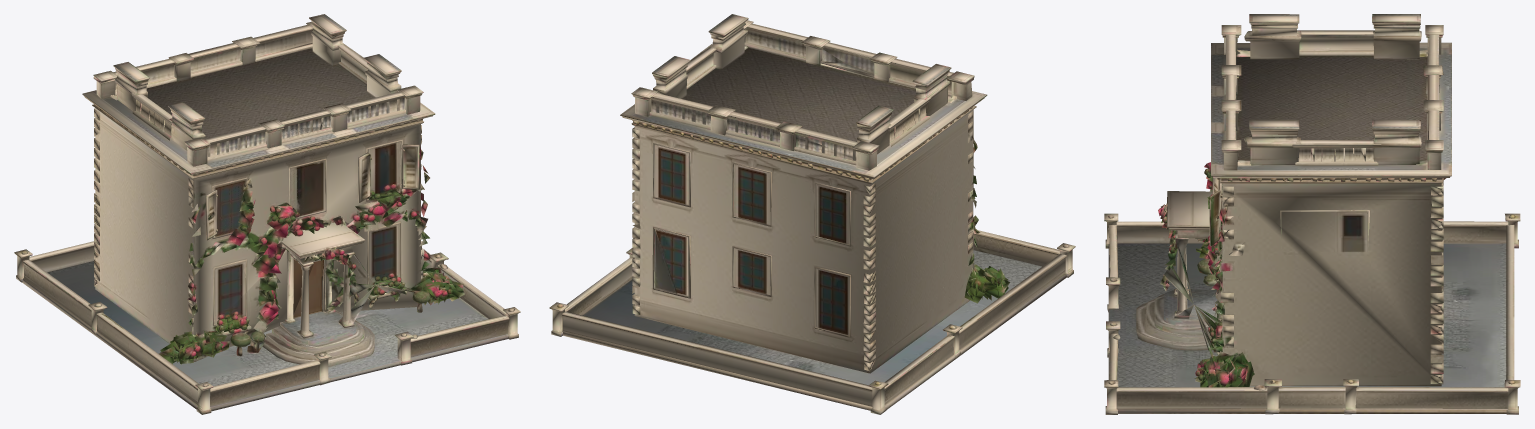
The picture shows the model from 3 angles, left to right: view 1: azimuth 30°, elevation 25°; view 2: azimuth 150°, elevation 25°; view 3: azimuth 270°, elevation 25°; orthographic projection. The views are drawn at different scales.
Size of the model in its own units: 0.9487 by 0.6616 by 0.9648.
Materials: 1 (1 with a texture image).
